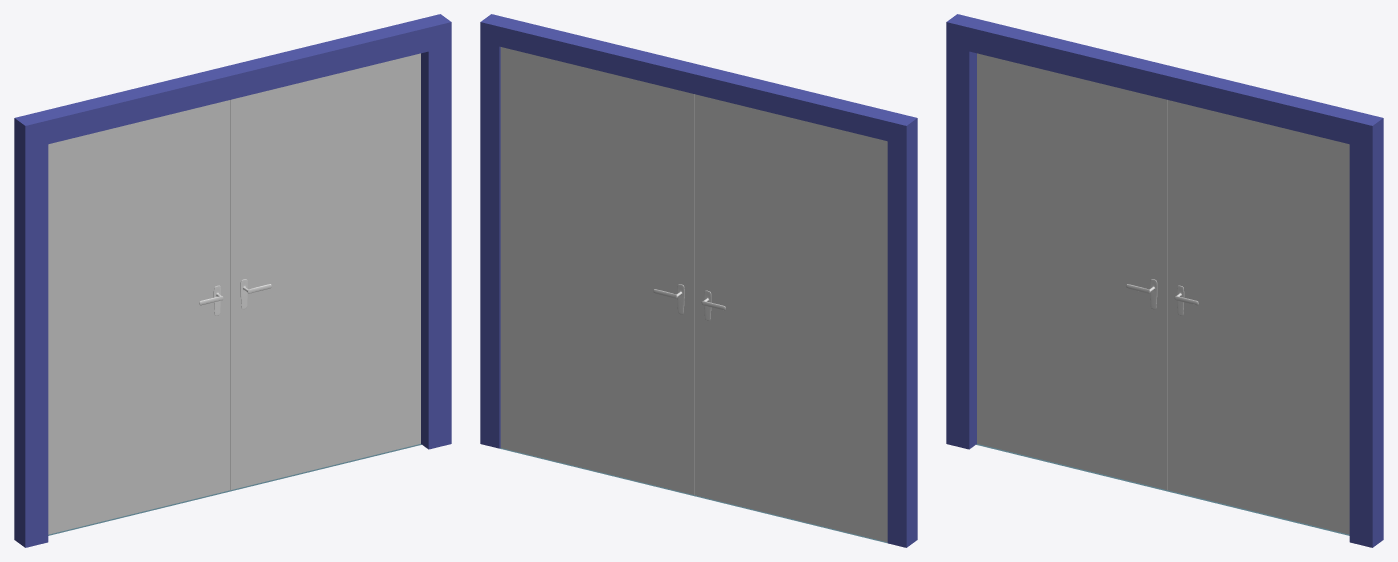
File: DoubleDoor.fbx
3 renders of one model, left to right at view 1: azimuth 30°, elevation 25°; view 2: azimuth 150°, elevation 25°; view 3: azimuth 330°, elevation 25°, orthographic.
Visible parts, largest first — view 1: Door Panel.001, Door Panel, Door; view 2: Door Panel.001, Door Panel, Door; view 3: Door Panel, Door Panel.001, Door.
Boxes of the visible parts, box(x1,y1,x2,y2) form: Door Panel.001: box(230, 53, 420, 489); Door Panel: box(48, 100, 230, 534); Door: box(14, 14, 451, 547); Door Panel.001: box(500, 47, 694, 494); Door Panel: box(694, 94, 887, 542); Door: box(480, 14, 917, 547); Door Panel: box(977, 53, 1167, 489); Door Panel.001: box(1167, 100, 1349, 534); Door: box(946, 14, 1383, 547).
Bounding box in the file's own units: 224 × 212 × 13.87.
